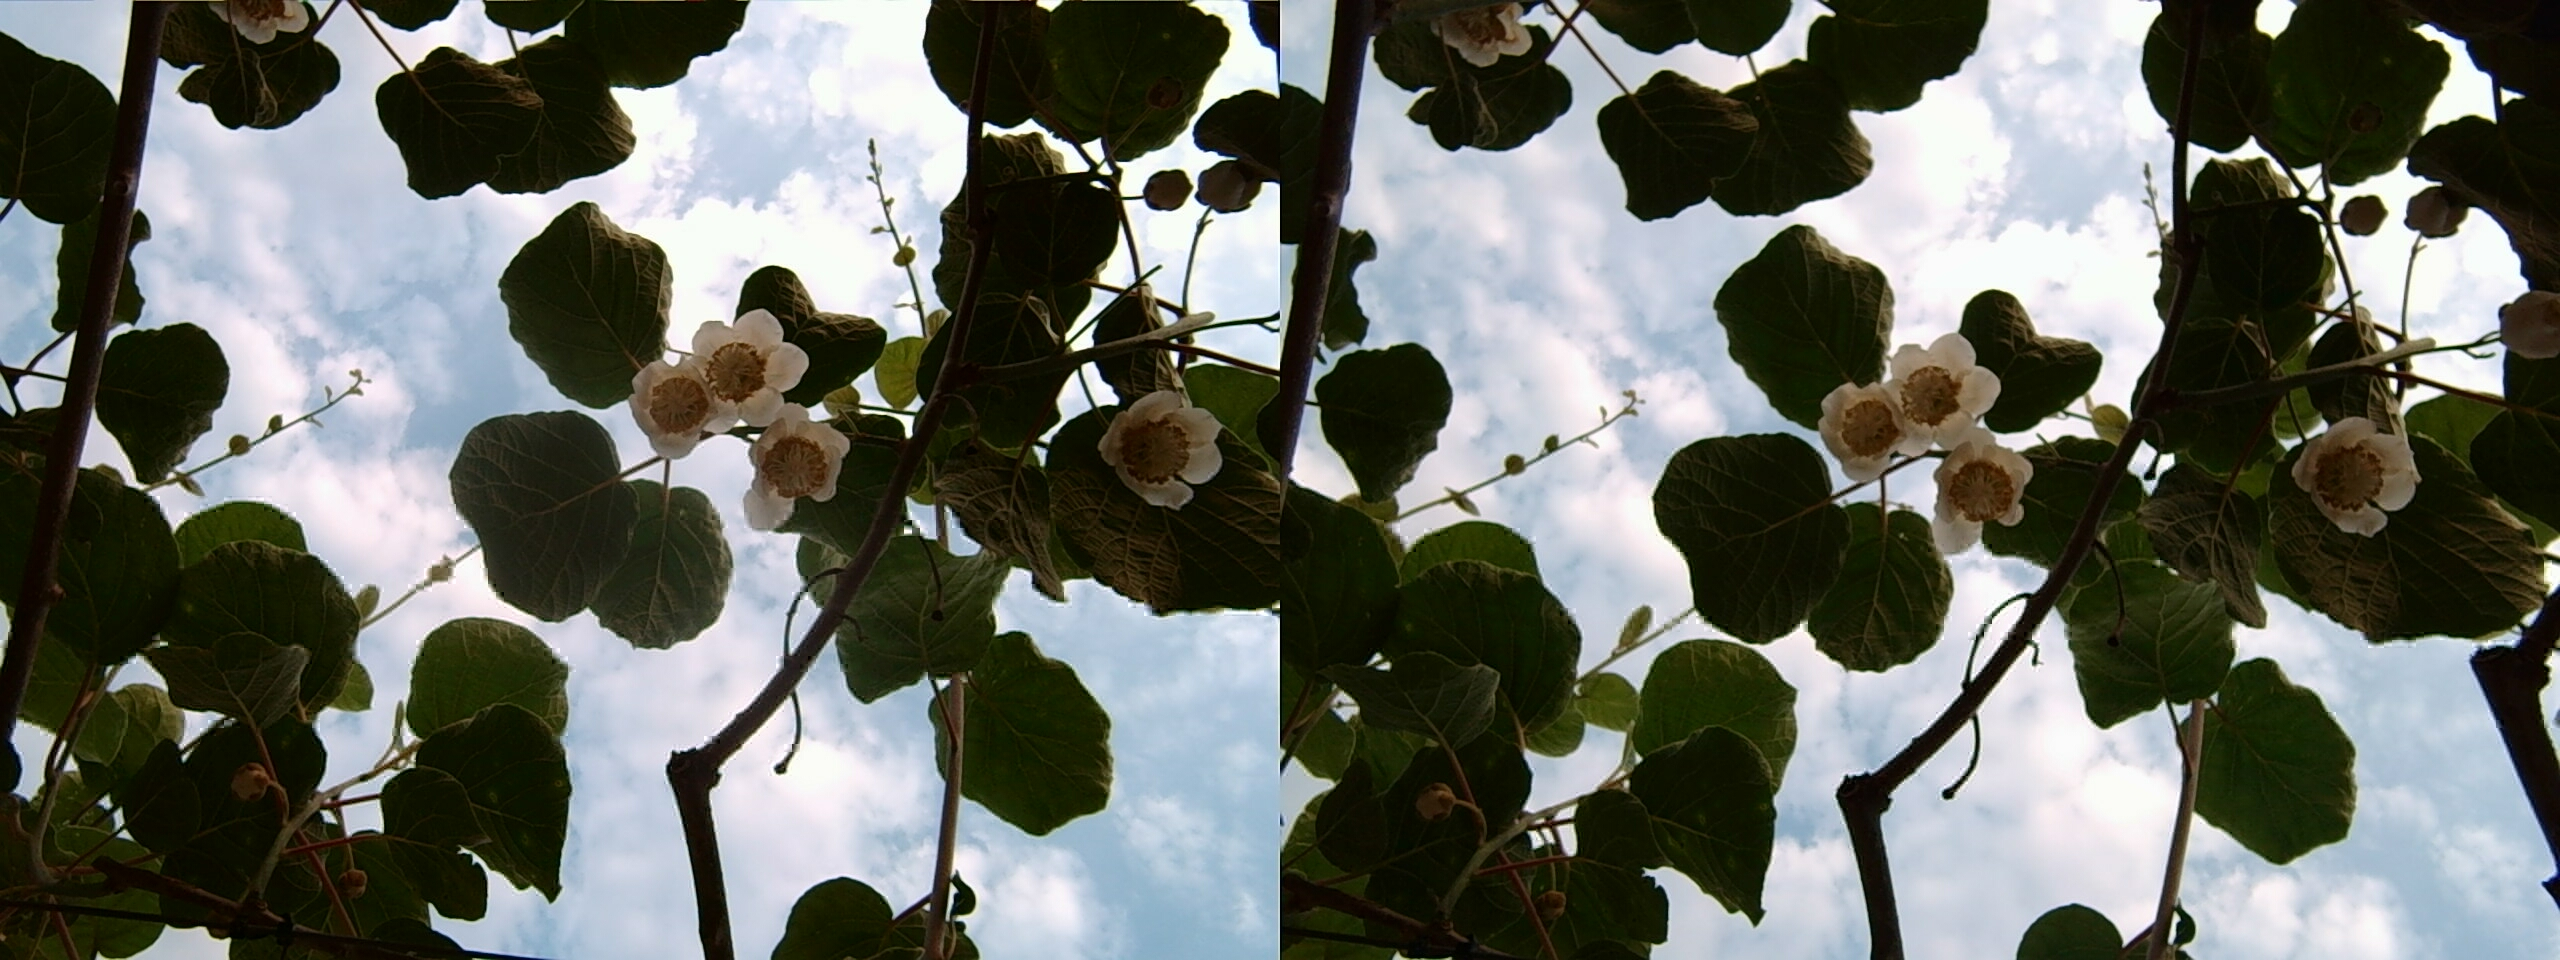flower: (630, 304, 805, 451), (1817, 331, 1998, 465), (2287, 411, 2420, 526), (1096, 389, 1226, 498), (1931, 438, 2028, 529), (746, 411, 846, 498)
